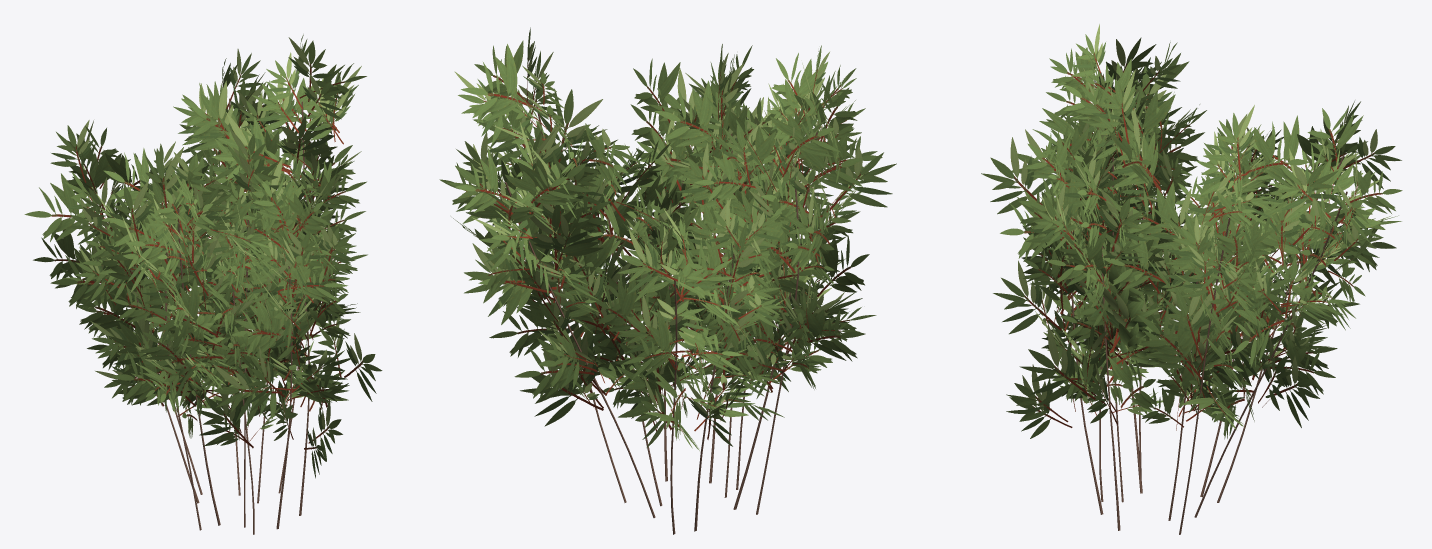
File: bush_05.glb
3 renders of one model, left to right at view 1: azimuth 30°, elevation 25°; view 2: azimuth 150°, elevation 25°; view 3: azimuth 270°, elevation 25°, orthographic. The views are drawn at different scales.
Parts seen in each view (by area): view 1: mountain_willow_LOD0; view 2: mountain_willow_LOD0; view 3: mountain_willow_LOD0.
Part boxes in pixels (x1,y1,x2,y2): mountain_willow_LOD0: [24, 34, 382, 534]; mountain_willow_LOD0: [439, 27, 896, 534]; mountain_willow_LOD0: [981, 24, 1402, 534].
Size of the model in its own units: 0.9989 by 1.21 by 1.08.
Materials: 2 (2 with a texture image).
